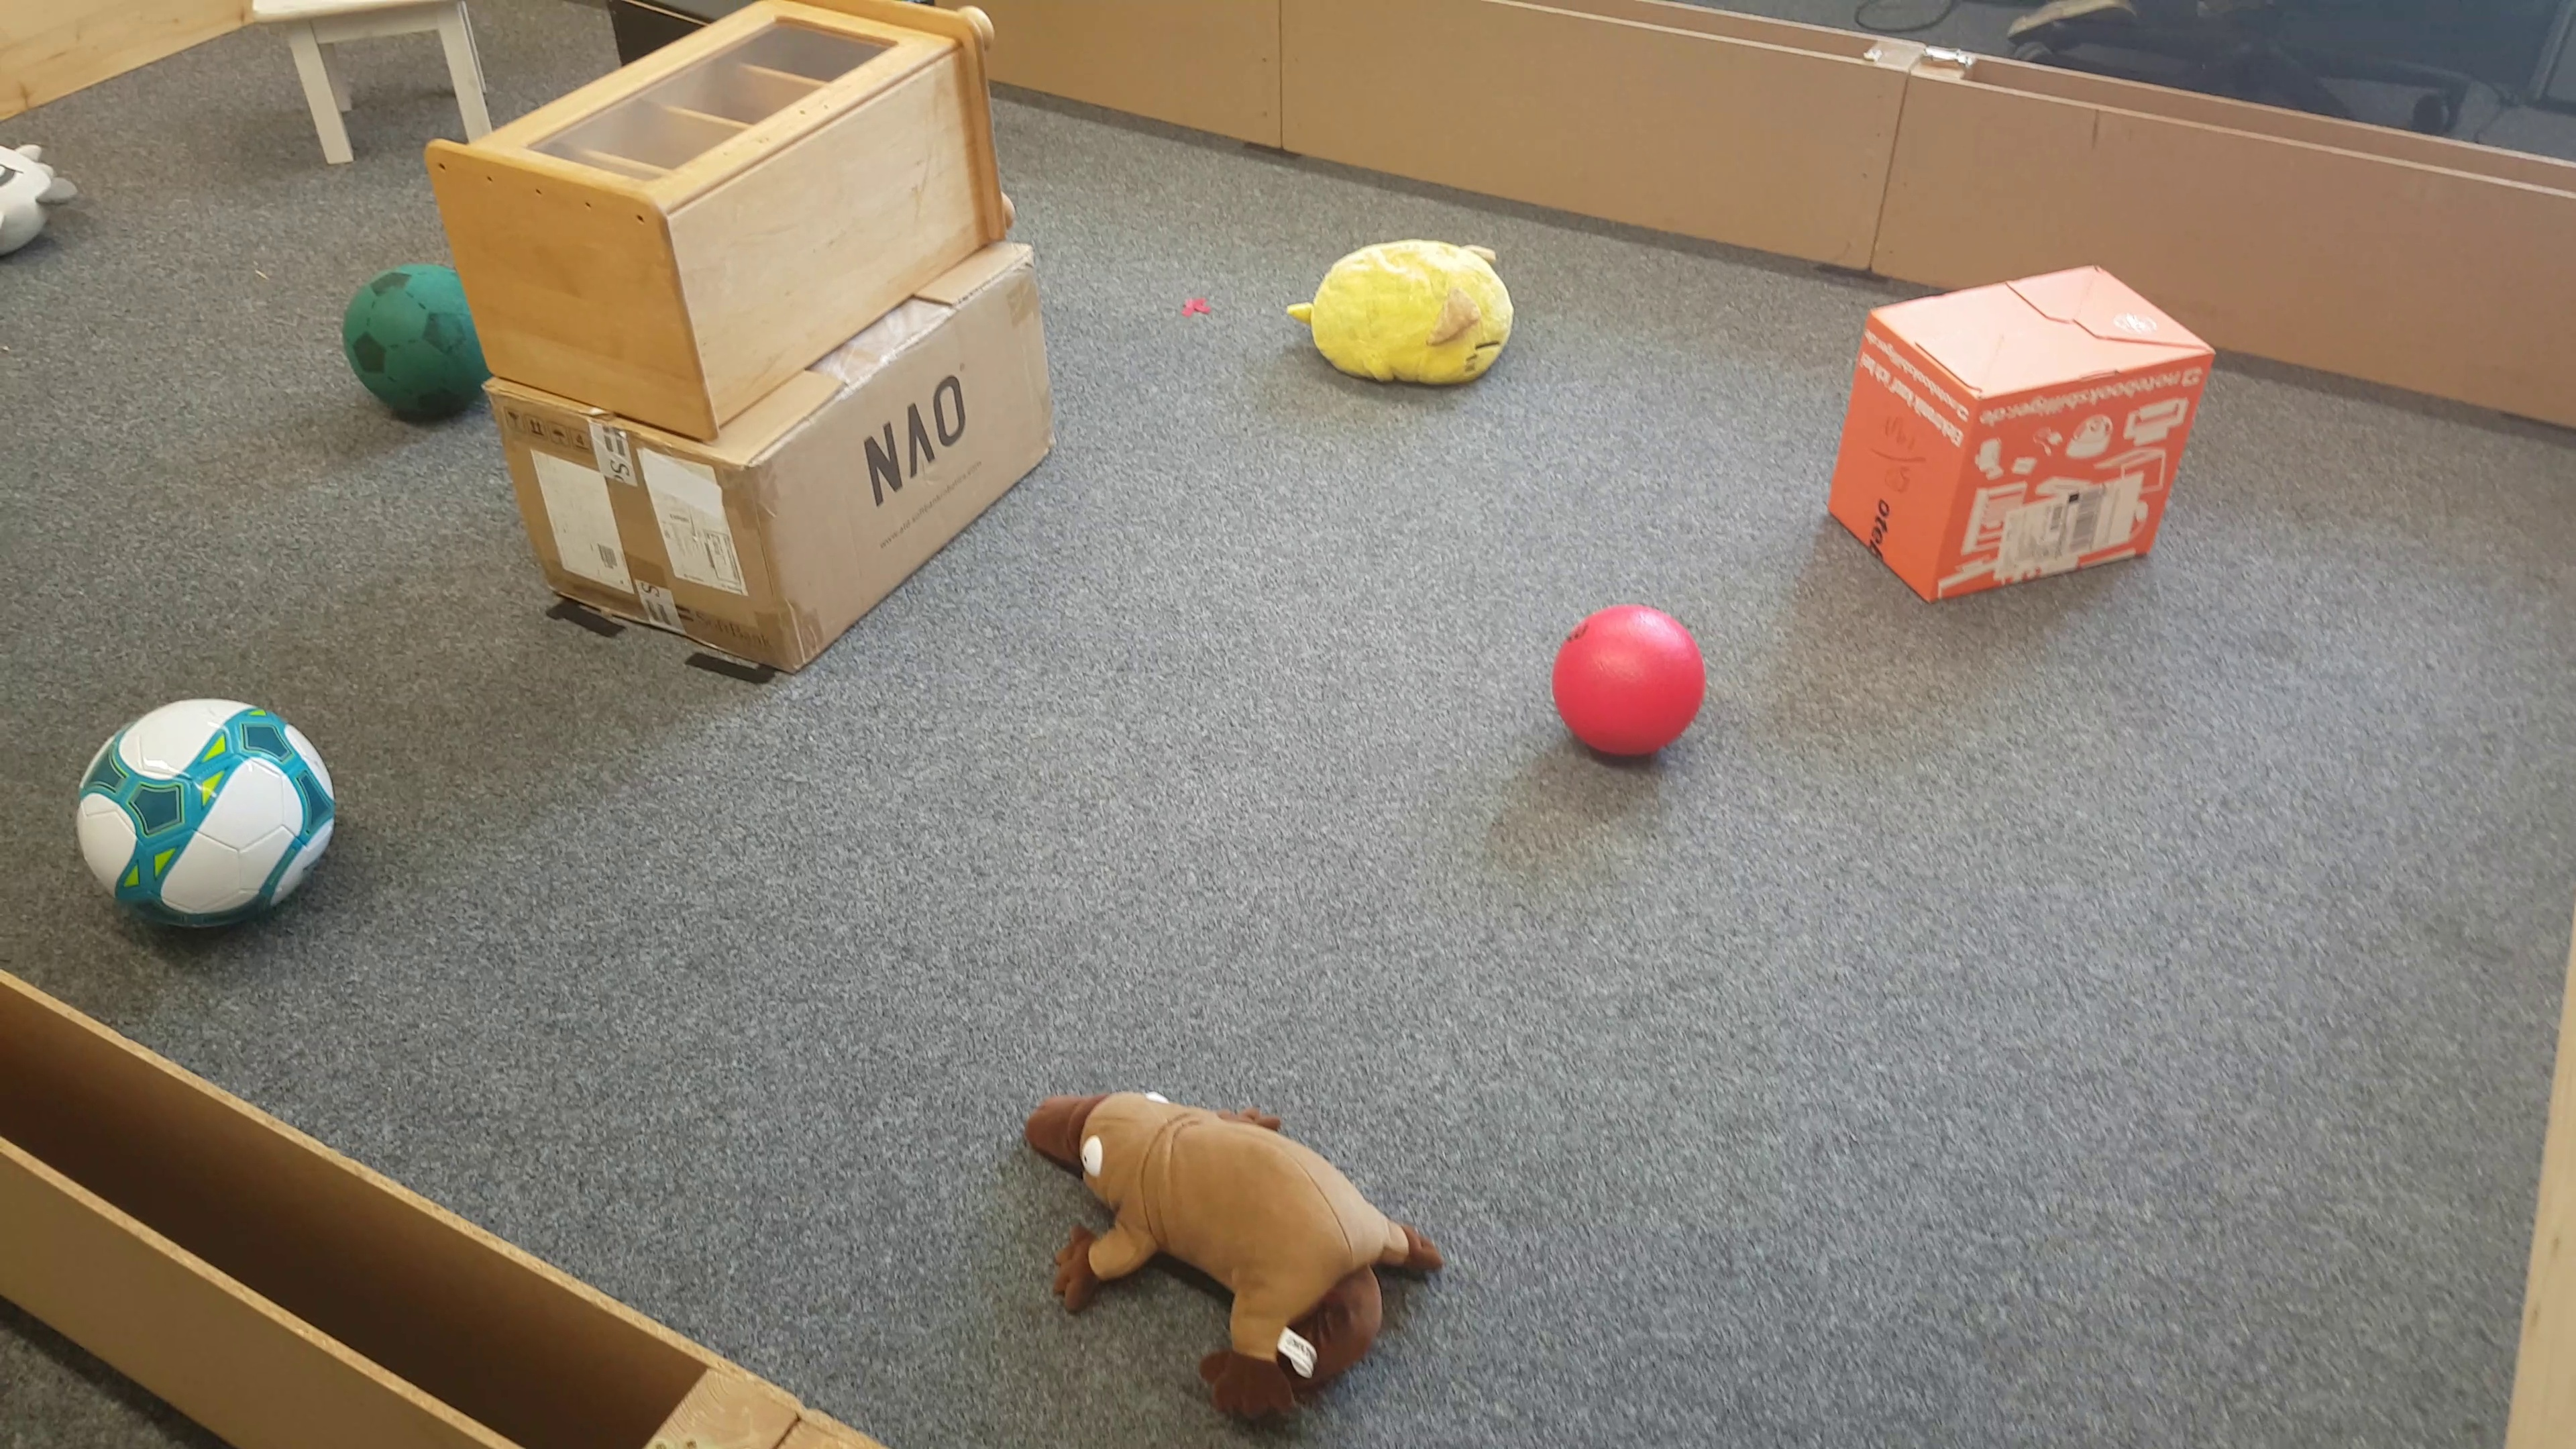grasp: (1019, 1090, 1444, 1430), (1292, 241, 1516, 391), (4, 140, 78, 262)
kick: (74, 697, 341, 938), (1553, 600, 1704, 766), (343, 267, 488, 416)
push: (1826, 267, 2219, 602)
